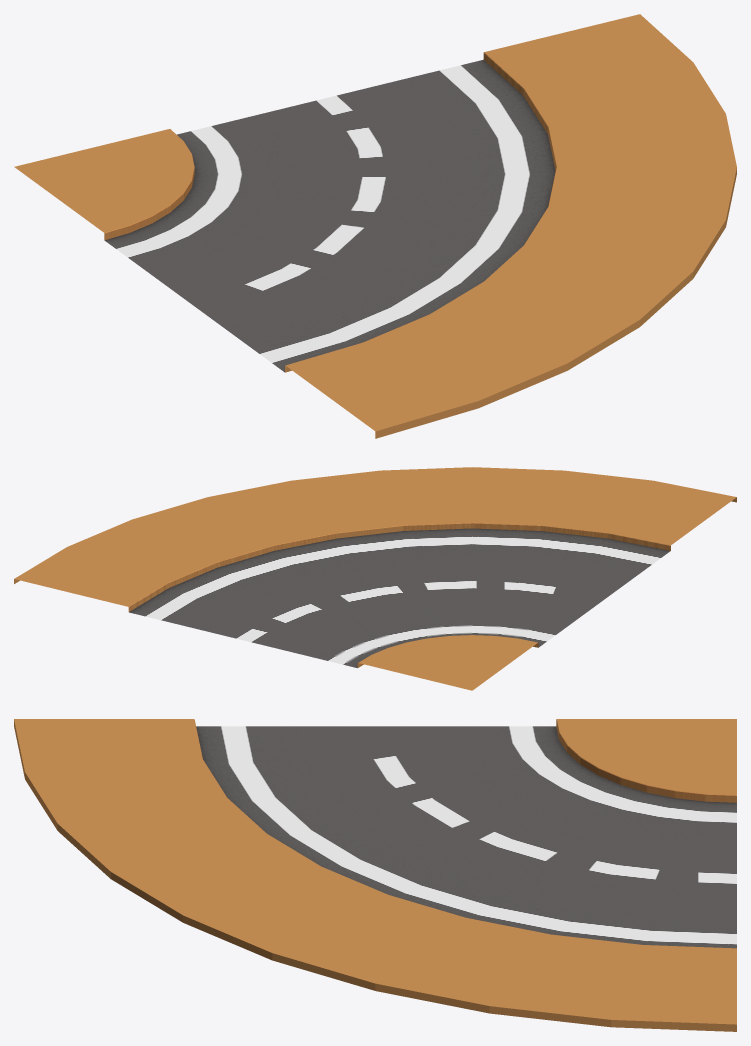
Rendered from Turn_Road.fbx.
3 views of the same model, one above another, from view 1: azimuth 30°, elevation 25°; view 2: azimuth 150°, elevation 25°; view 3: azimuth 270°, elevation 25° (orthographic). The views are drawn at different scales.
Visible parts, largest first — view 1: Turn_Road.001; view 2: Turn_Road.001; view 3: Turn_Road.001.
Part boxes in pixels (box(x1,y1,x2,y2)): Turn_Road.001: box(14, 14, 736, 438); Turn_Road.001: box(14, 467, 736, 690); Turn_Road.001: box(14, 719, 736, 1031).
Bounding box in the file's own units: 1997 × 22.62 × 1997.
